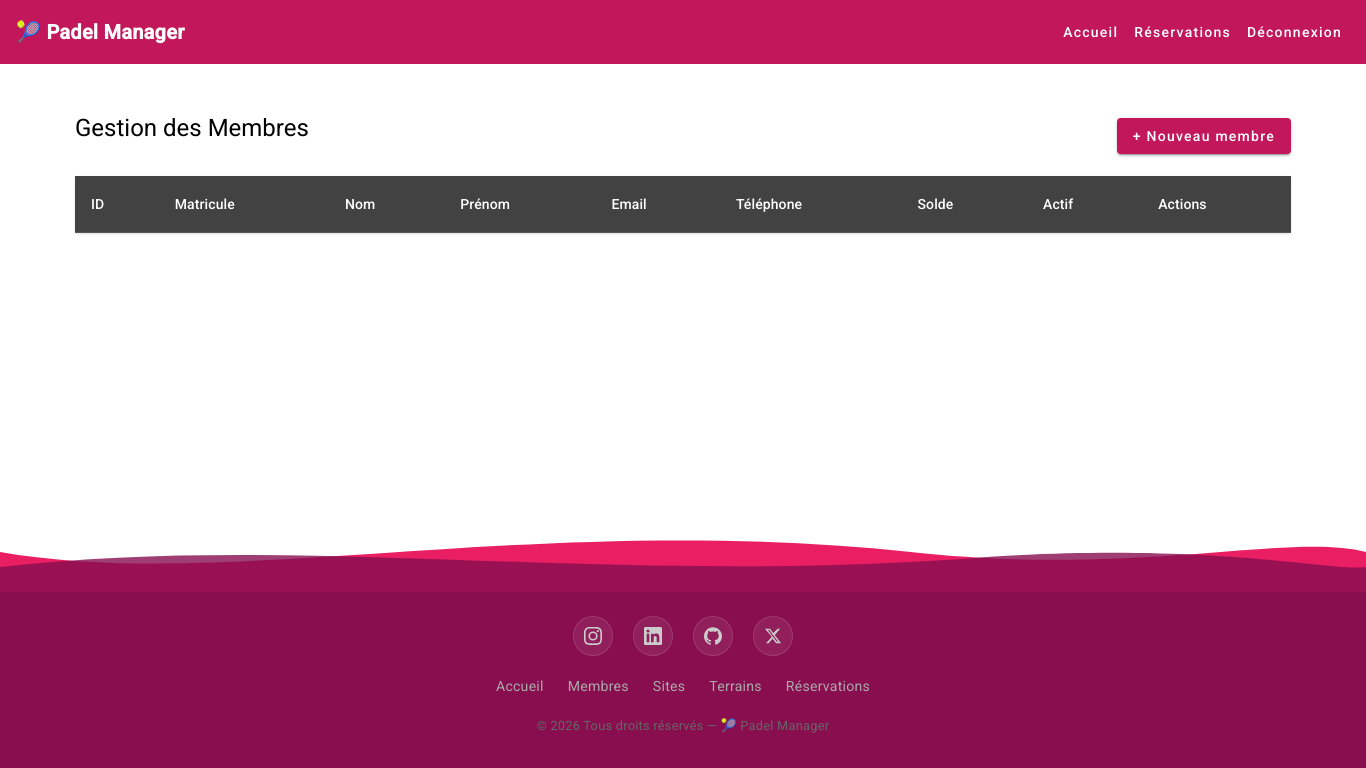
Test case: Gestion des Membres › should open dialog when clicking nouveau membre
Click the button "+ Nouveau membre". click: [1204, 136]
box: [1117,118,1291,154]
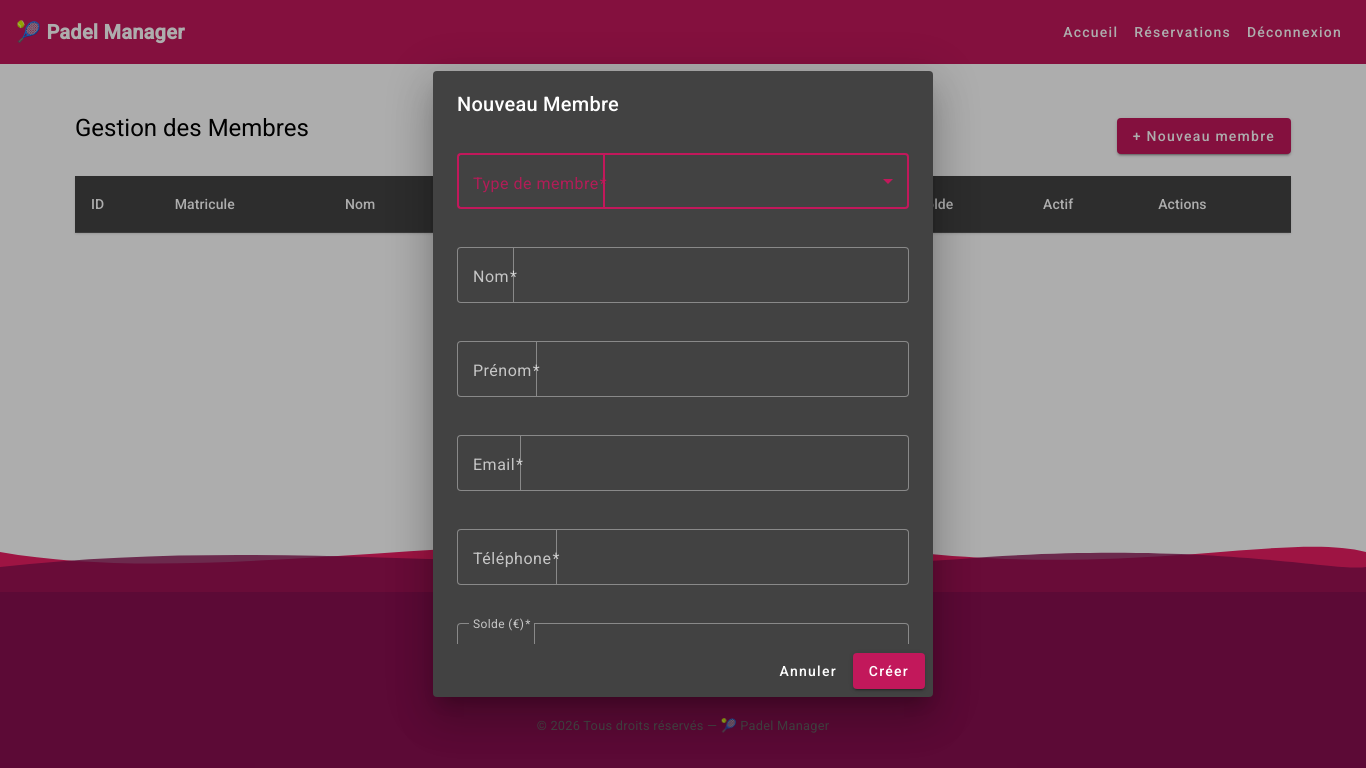
Check: the heading "Nouveau Membre" is shown, box [457,92,619,116]
Check: the number of fields is more than 0
